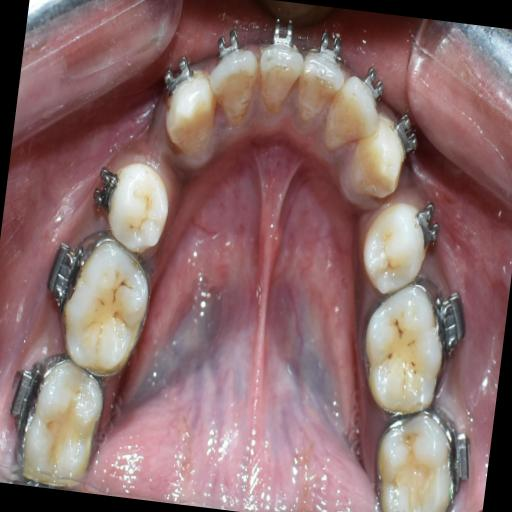correct_brace: (354, 194, 428, 296), (110, 159, 172, 252), (387, 106, 422, 160), (312, 27, 349, 69), (160, 58, 196, 96), (360, 62, 388, 106), (212, 24, 242, 65), (265, 22, 299, 52)
incorrect_brace: (200, 48, 260, 130), (336, 70, 382, 157), (412, 196, 444, 256), (92, 160, 123, 214)
